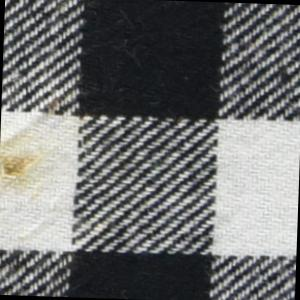Oil Stain: (1, 75, 87, 209)
